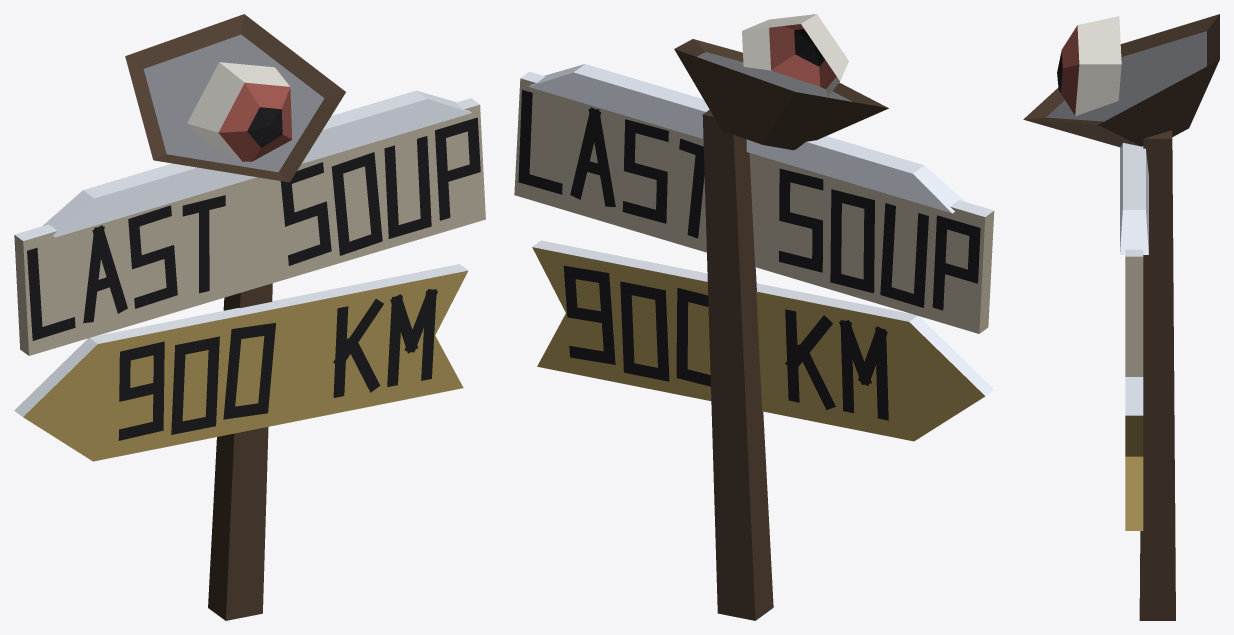
File: gag_sign_b.glb
3 views of the same model, side by side, from view 1: azimuth 30°, elevation 25°; view 2: azimuth 150°, elevation 25°; view 3: azimuth 270°, elevation 25° (orthographic).
Visible parts, largest first — view 1: Scenery; view 2: Scenery; view 3: Scenery.
Boxes of the visible parts, box(x1,y1,x2,y2) form: Scenery: box(14, 14, 485, 620); Scenery: box(514, 14, 994, 620); Scenery: box(1023, 14, 1219, 620).
Size of the model in its own units: 3 by 3.54 by 1.09.
